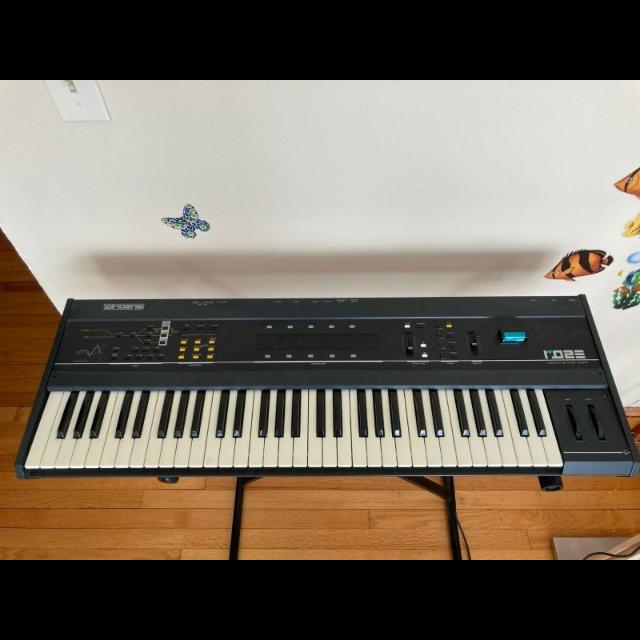Electronic-Keyboard: (22, 295, 630, 479)
